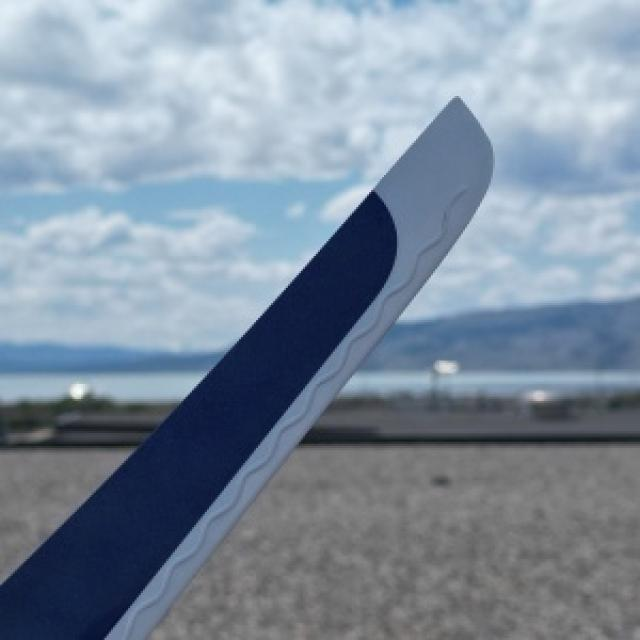healthy: (0, 96, 491, 638)
